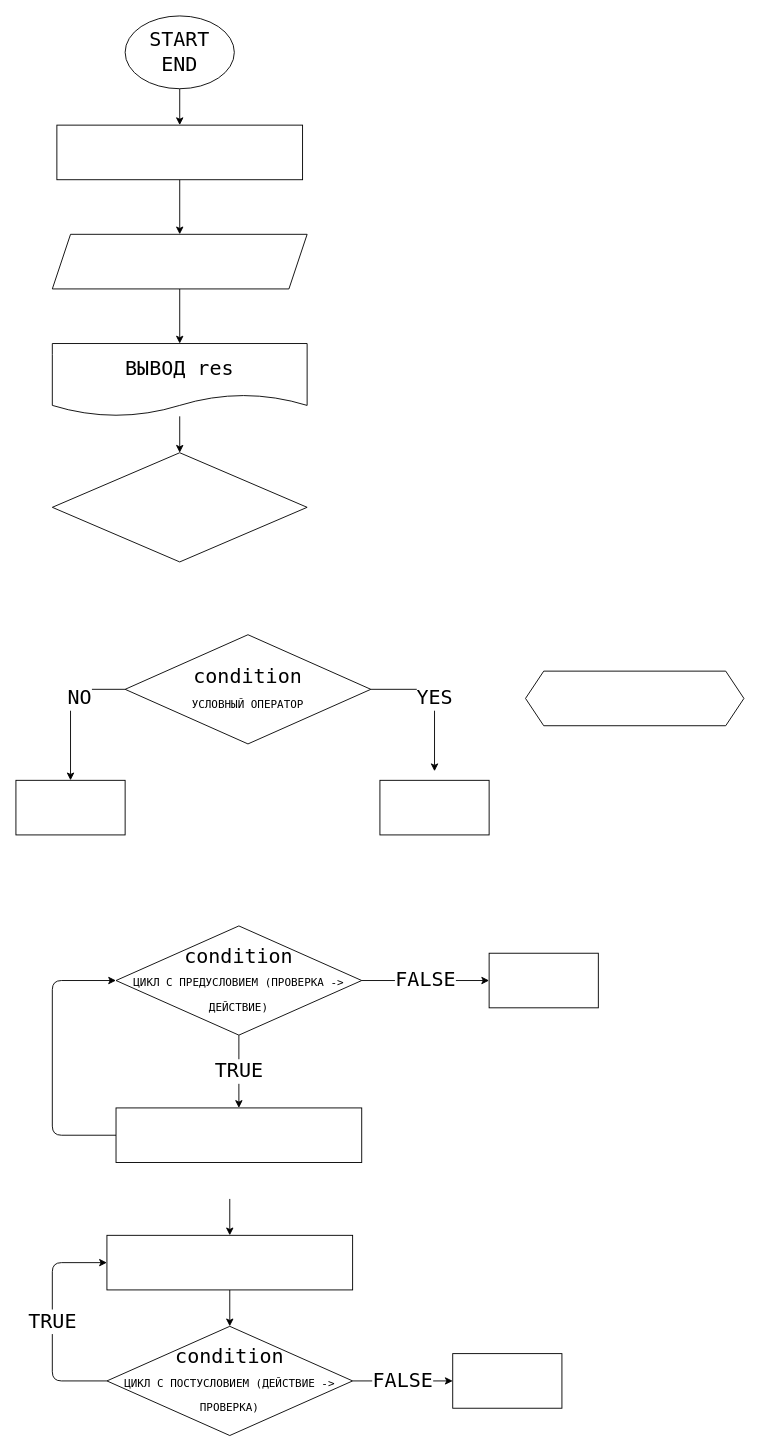
This 760x1451 diagram has some shape labels left out. The centre of each missing label's shape, as x and y in pixels:
count = 1, 10, 1 счетчик от 1 до 10 с шагом 1: point 634,698
count =0 res = 1 * Sqrt (2): point 179,152
ВВОД count: point 179,261
